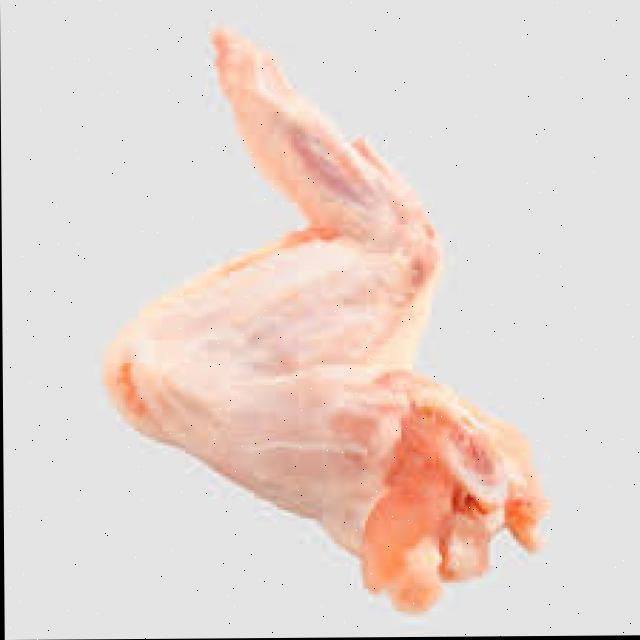wing: (92, 26, 550, 598)
